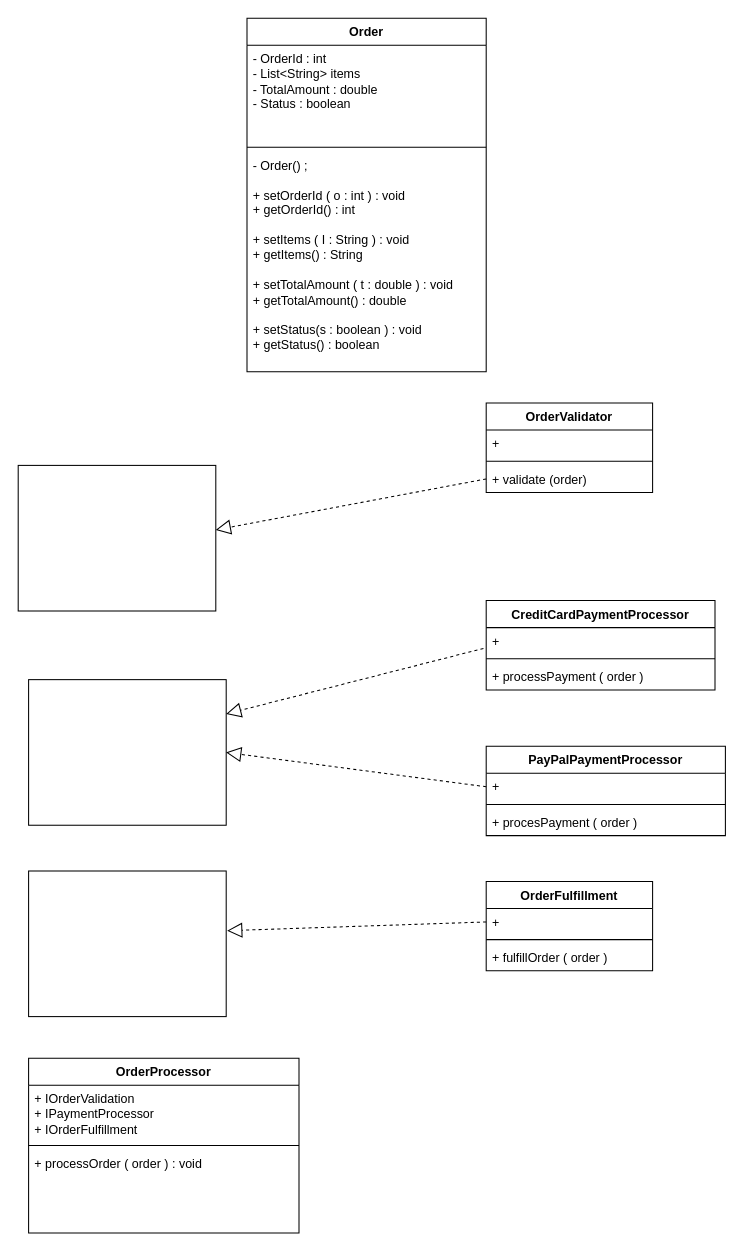
Some shapes in this 744 by 1254 pixel diagram are drawn without their labels. The shapes that lost their labels are listed below. From the top down, each one's centre as x and y in pixels, then its label:
At point 116,537: "<<Interface>> IOrderValidation + + + Validate ( order )".
At point 127,752: "<<Interface>> IPaymentProcessor + + + processPayment ( order )".
At point 127,943: "<<Interface>> IOrderFulfillment + + fulfillOrder ( order )".
